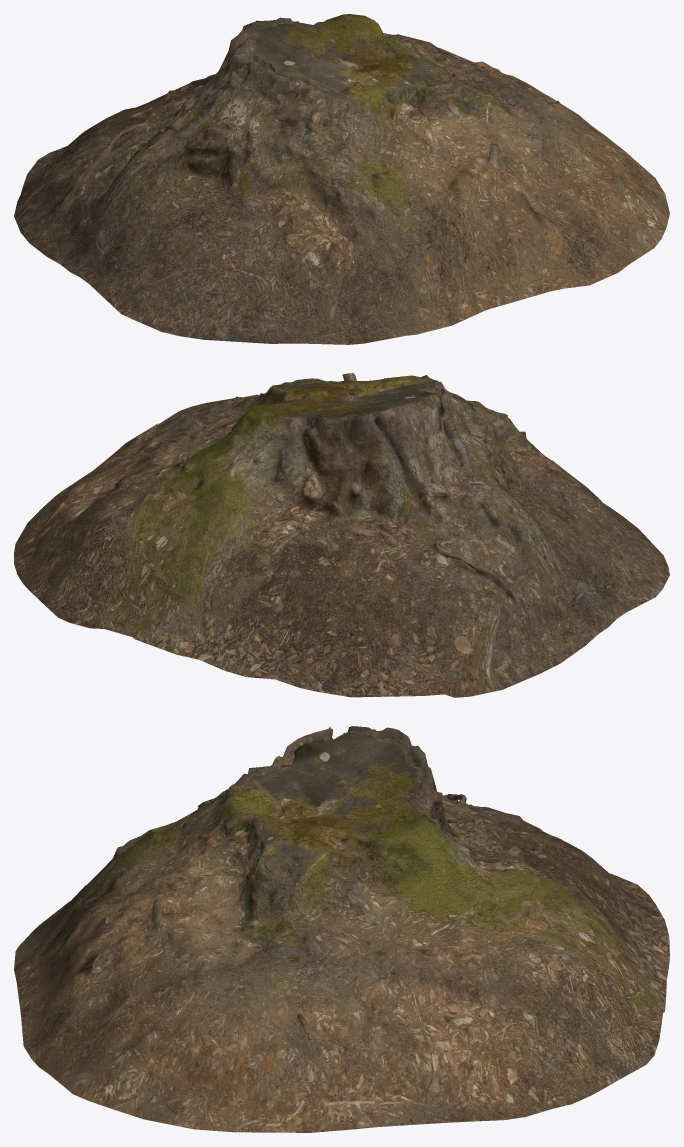
Rendered from stump2.glb.
3 renders of one model, top to bottom at view 1: azimuth 30°, elevation 25°; view 2: azimuth 150°, elevation 25°; view 3: azimuth 270°, elevation 25°, orthographic. The views are drawn at different scales.
Parts seen in each view (by area): view 1: tree_stump_02; view 2: tree_stump_02; view 3: tree_stump_02.
Part boxes in pixels (x1,y1,x2,y2): tree_stump_02: (14,14,669,344); tree_stump_02: (14,373,669,697); tree_stump_02: (14,726,669,1132).
Size of the model in its own units: 1.52 by 0.5214 by 1.39.
1 material, 1 textured.
